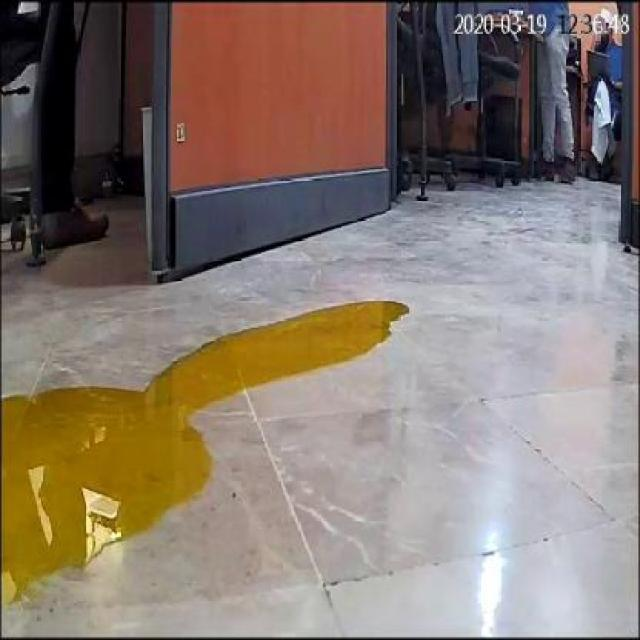spill: (1, 298, 412, 592)
